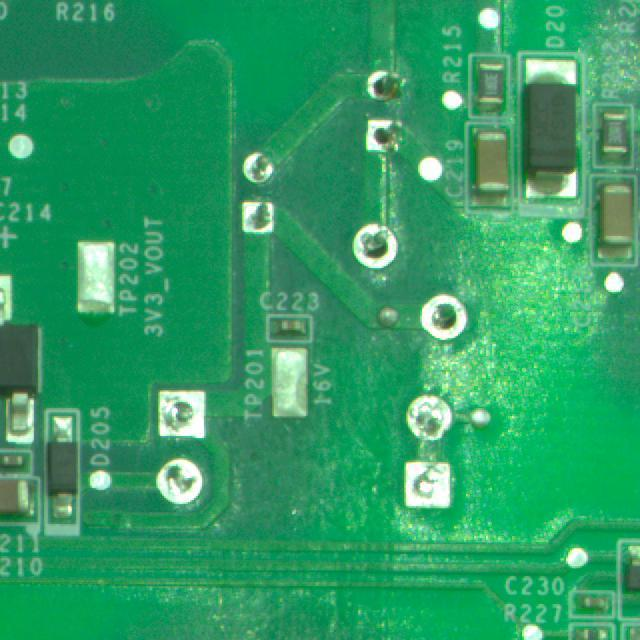Insufficient solder: (152, 379, 231, 449), (402, 452, 460, 521), (419, 286, 480, 349), (401, 388, 460, 451), (162, 449, 221, 512), (354, 59, 423, 110), (351, 110, 405, 158), (354, 218, 397, 278), (236, 192, 285, 237), (228, 148, 280, 189)
